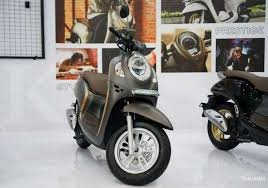motor: (65, 28, 175, 188)
